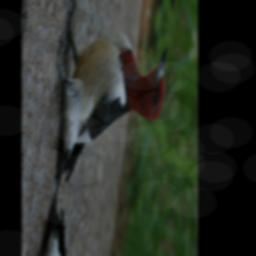Woodpecker: (38, 0, 173, 251)
